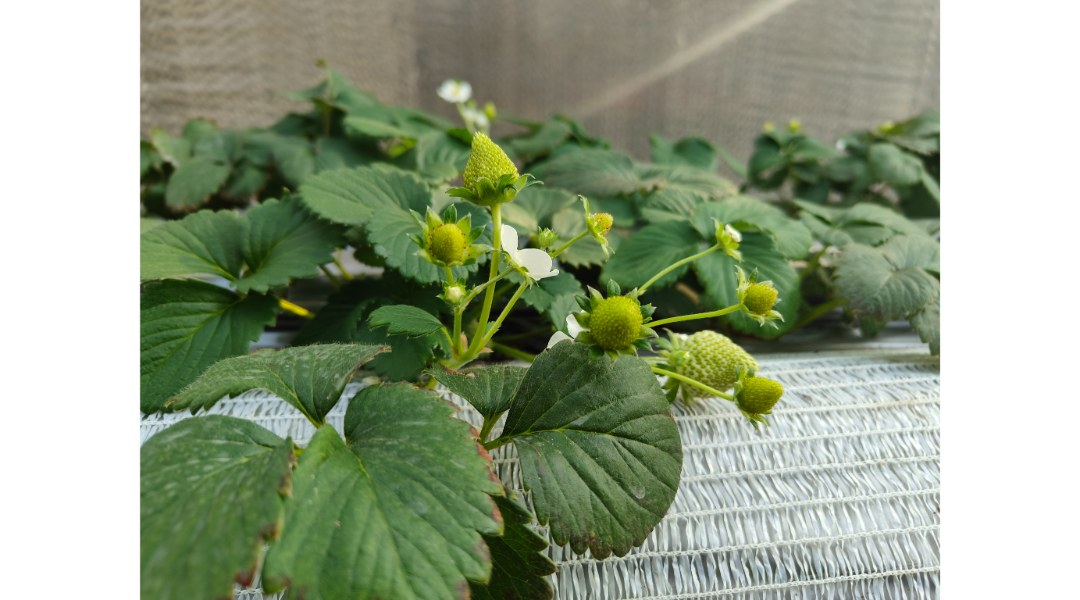berry: (571, 271, 663, 378), (652, 322, 762, 405), (452, 123, 544, 209), (720, 267, 790, 337), (409, 202, 475, 274), (719, 367, 787, 434), (581, 192, 631, 261), (433, 272, 469, 333), (707, 218, 745, 267)
flower: (497, 227, 558, 290)
strain: (634, 243, 713, 299), (485, 282, 527, 358), (650, 302, 738, 331), (488, 198, 503, 332)
